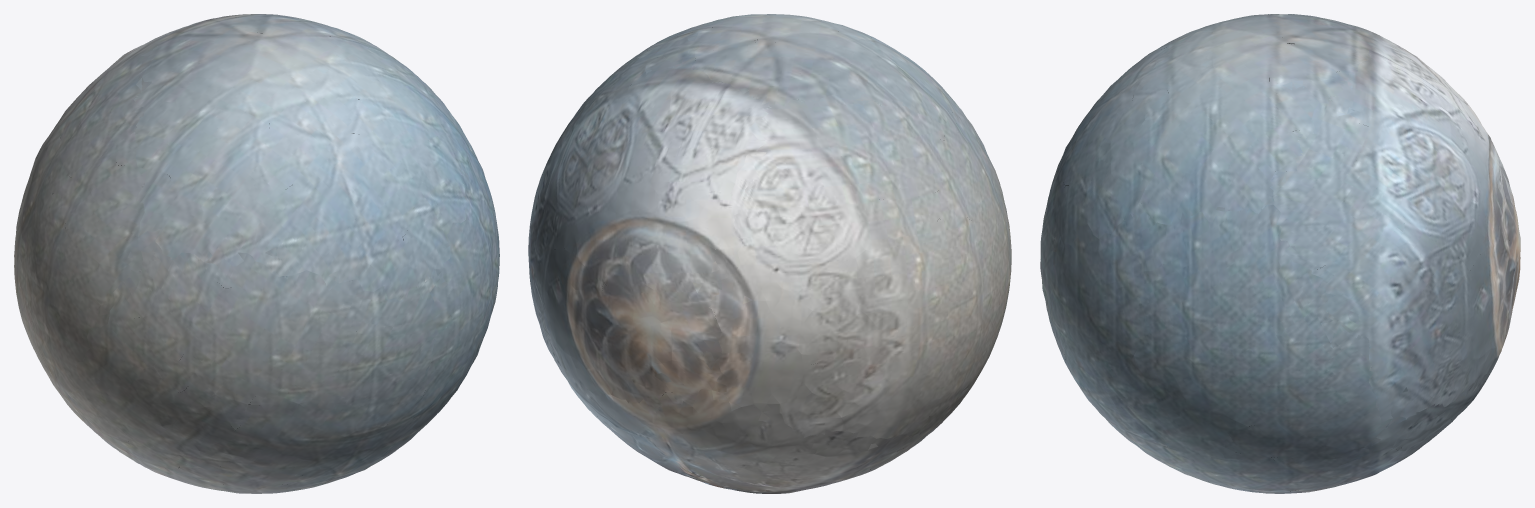
3 renders of one model, left to right at view 1: azimuth 30°, elevation 25°; view 2: azimuth 150°, elevation 25°; view 3: azimuth 270°, elevation 25°, orthographic.
Visible parts, largest first — view 1: world; view 2: world; view 3: world.
Boxes of the visible parts, x1,y1,x2,y2 form: world: (14,14,499,493); world: (528,14,1011,493); world: (1040,14,1520,493).
Bounding box in the file's own units: 0.9338 × 0.9152 × 0.9201.
Materials: 1 (1 with a texture image).
